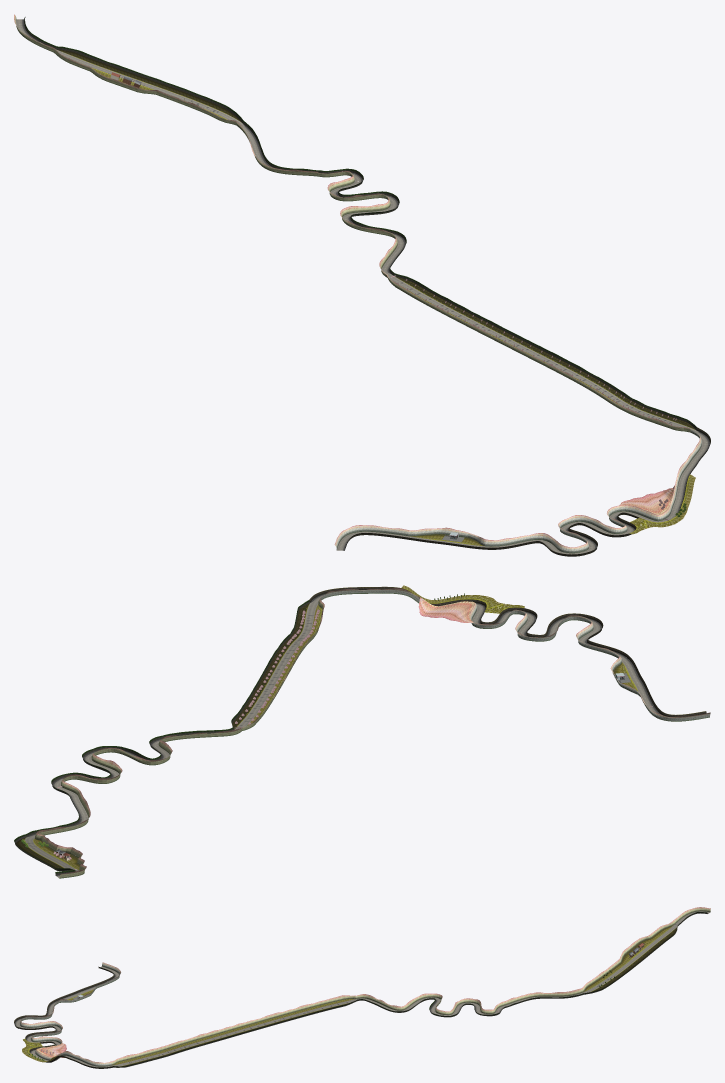
File: Cherry mountain.fbx
3 renders of one model, top to bottom at view 1: azimuth 30°, elevation 25°; view 2: azimuth 150°, elevation 25°; view 3: azimuth 270°, elevation 25°, orthographic. The views are drawn at different scales.
Parts seen in each view (by area): view 1: skfb_offset; view 2: skfb_offset; view 3: skfb_offset.
Part boxes in pixels (box(x1,y1,x2,y2)): skfb_offset: box(14, 14, 710, 556); skfb_offset: box(14, 585, 710, 878); skfb_offset: box(14, 907, 710, 1068).
Bounding box in the file's own units: 1698122 × 696871 × 4218007.
